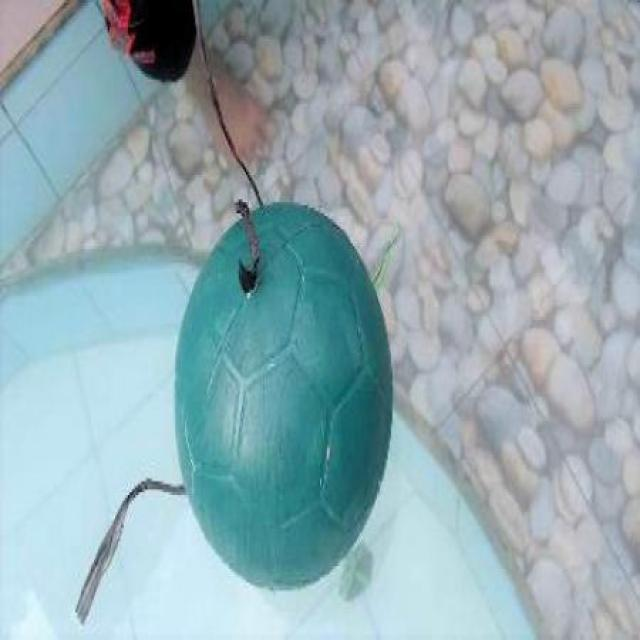buoy: (174, 204, 392, 590)
